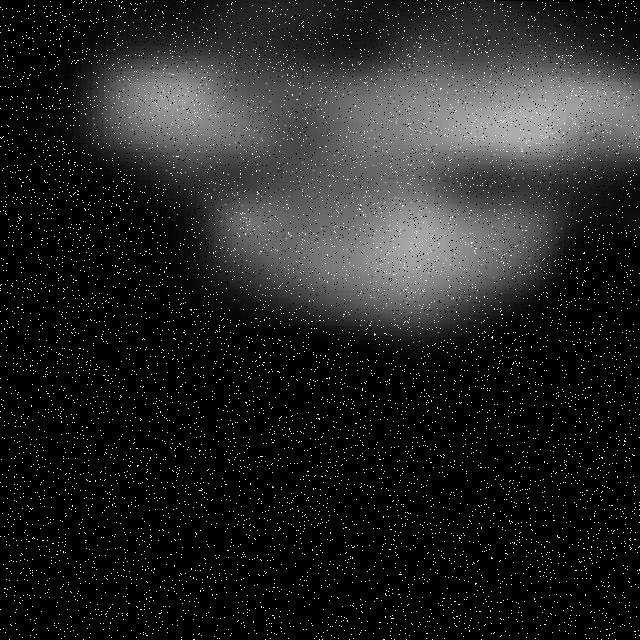person: (94, 12, 640, 206), (144, 161, 640, 369)
